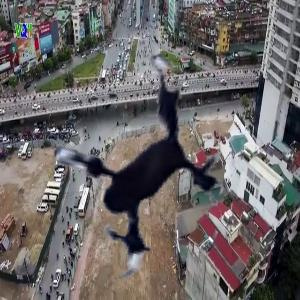drone: (1, 37, 257, 293)
